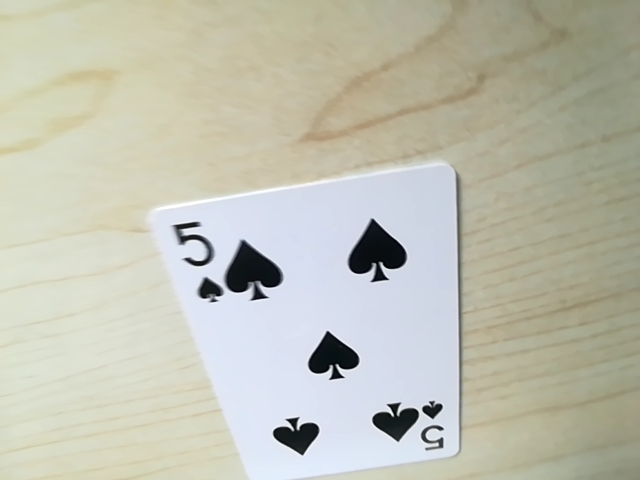ht 5: (164, 216, 231, 309), (413, 399, 453, 459)
